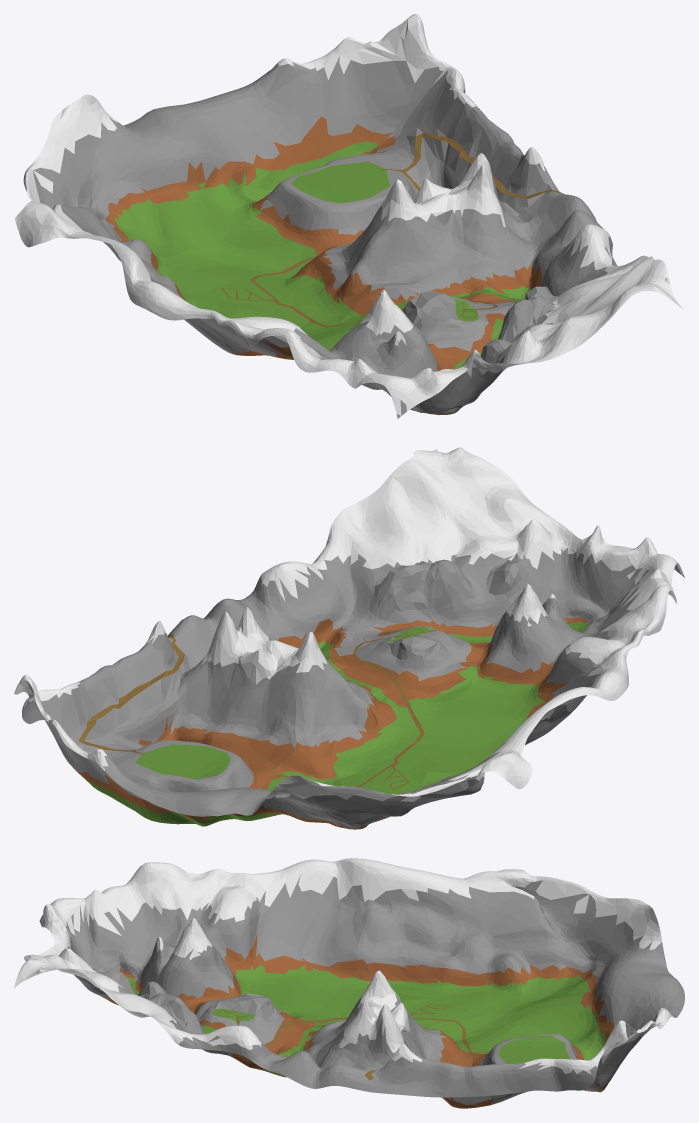
The model's file is LowPolyTerrain.fbx.
The picture shows the model from 3 angles, top to bottom: view 1: azimuth 30°, elevation 25°; view 2: azimuth 150°, elevation 25°; view 3: azimuth 270°, elevation 25°; orthographic projection. The views are drawn at different scales.
Parts seen in each view (by area): view 1: Plane.001; view 2: Plane.001; view 3: Plane.001.
Boxes of the visible parts, x1,y1,x2,y2 form: Plane.001: [14, 14, 683, 418]; Plane.001: [14, 447, 684, 829]; Plane.001: [14, 858, 684, 1108].
Bounding box in the file's own units: 541507 × 167027 × 775435.
